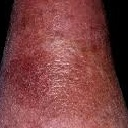Cellulitis: (9, 52, 48, 95), (78, 34, 102, 59), (14, 15, 36, 34)
